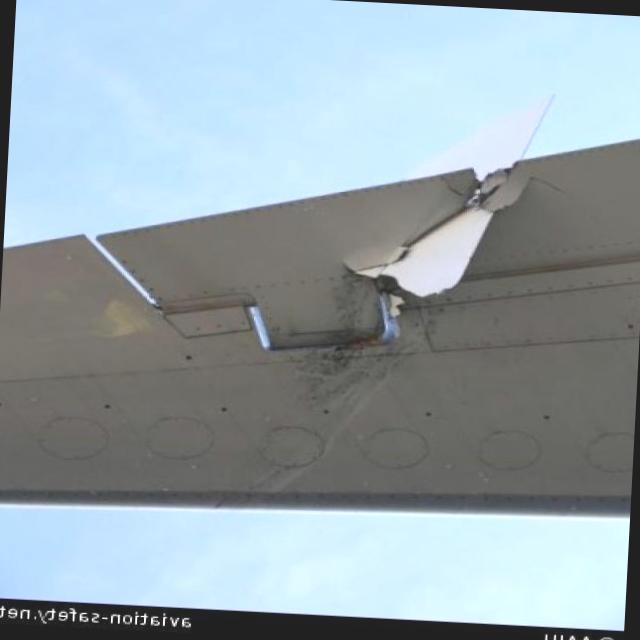crack: (341, 150, 534, 304)
